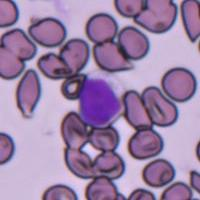L: (78, 74, 122, 128)
